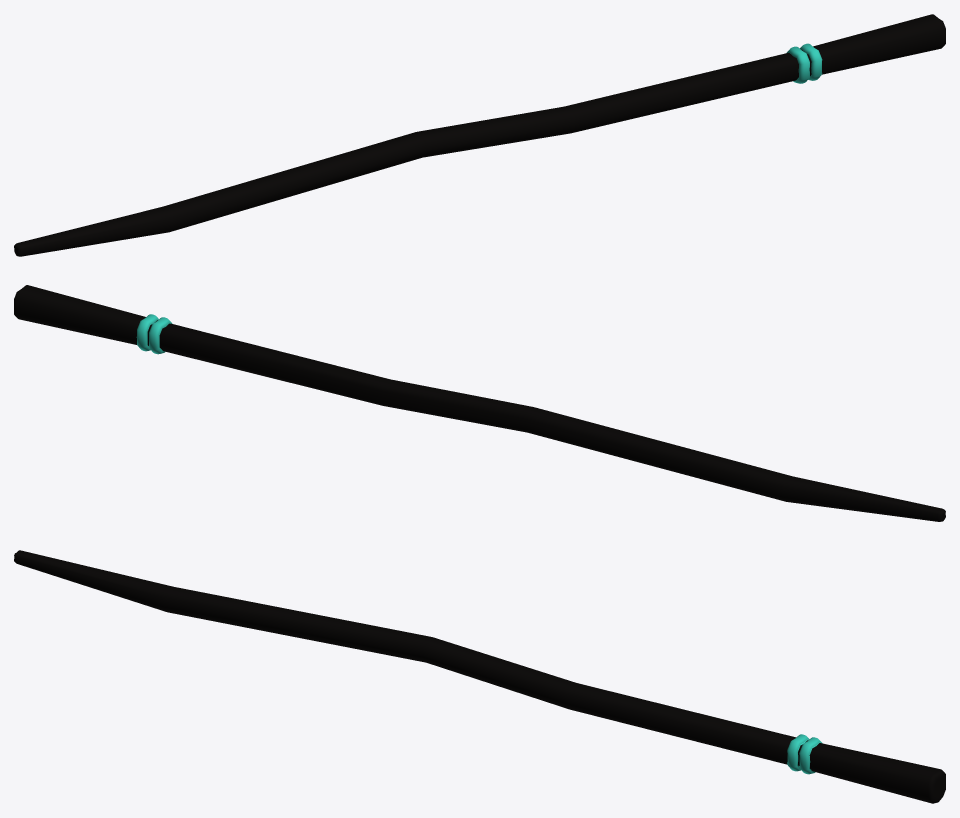
Rendered from wand.FBX.
3 views of the same model, one above another, from view 1: azimuth 30°, elevation 25°; view 2: azimuth 150°, elevation 25°; view 3: azimuth 330°, elevation 25° (orthographic).
Visible parts, largest first — view 1: wand; view 2: wand; view 3: wand.
Boxes of the visible parts, x1,y1,x2,y2 form: wand: (14, 14, 945, 256); wand: (14, 285, 945, 521); wand: (14, 550, 945, 803).
Bounding box in the file's own units: 67.03 × 2.56 × 2.2.
